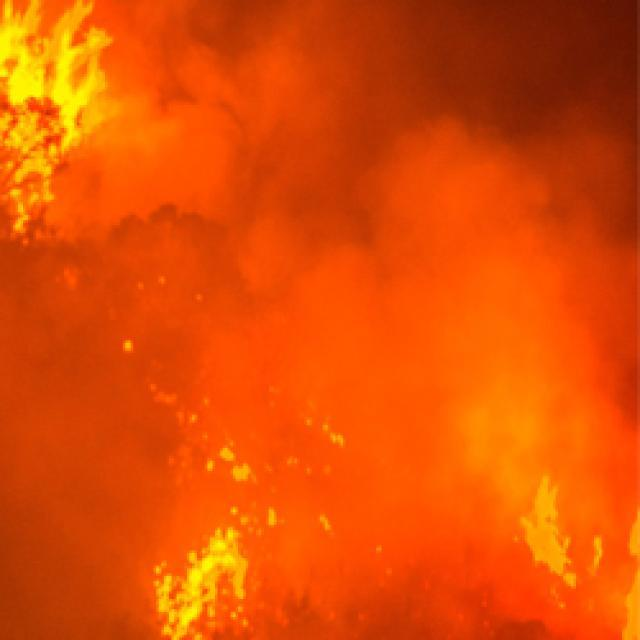Fire: (130, 478, 322, 640), (0, 0, 122, 244), (488, 462, 640, 640)
Smoke: (0, 0, 640, 640)
